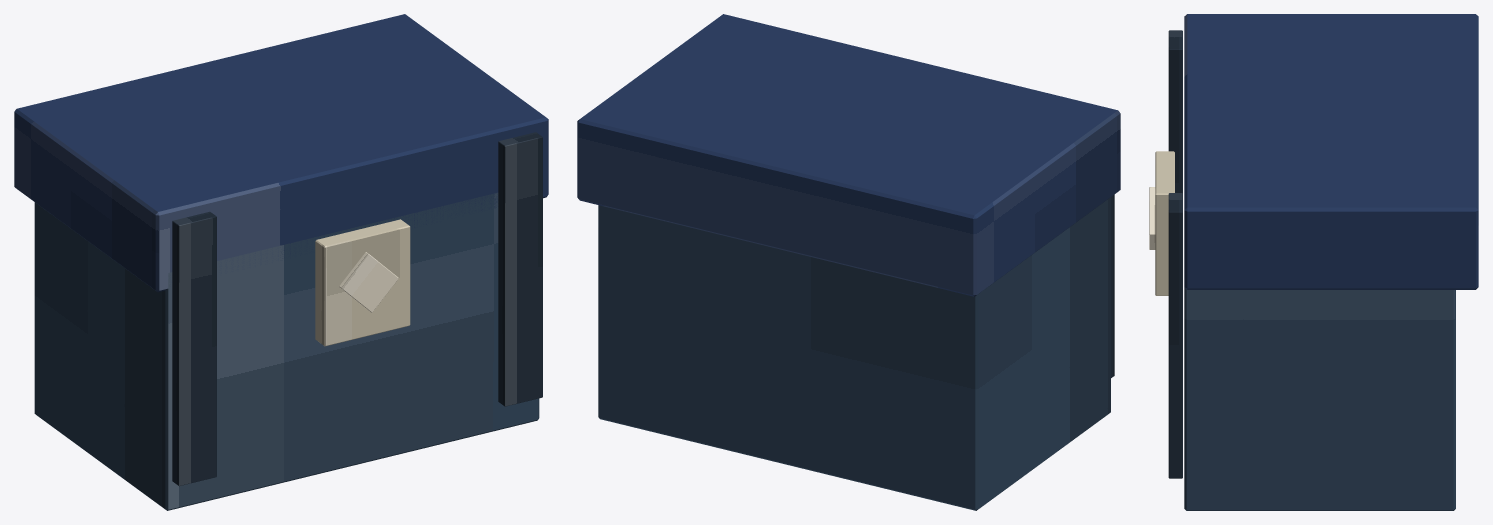
File: toy_chest_navy.glb
3 renders of one model, left to right at view 1: azimuth 30°, elevation 25°; view 2: azimuth 150°, elevation 25°; view 3: azimuth 270°, elevation 25°, orthographic. The views are drawn at different scales.
Visible parts, largest first — view 1: ChestBody, ChestLid, ChestBand_L, ChestBand_R, ChestLatch, ChestHeart; view 2: ChestBody, ChestLid, ChestBand_L; view 3: ChestLid, ChestBody, ChestBand_R, ChestLatch, ChestBand_L, ChestHeart.
Boxes of the visible parts, x1=… form: ChestBody: x1=34, y1=192, x2=539, y2=510; ChestLid: x1=14, y1=14, x2=548, y2=292; ChestBand_L: x1=172, y1=211, x2=216, y2=486; ChestBand_R: x1=498, y1=132, x2=542, y2=406; ChestLatch: x1=315, y1=219, x2=410, y2=346; ChestHeart: x1=339, y1=252, x2=398, y2=312; ChestBody: x1=598, y1=197, x2=1110, y2=510; ChestLid: x1=577, y1=14, x2=1120, y2=296; ChestBand_L: x1=1111, y1=194, x2=1114, y2=377; ChestLid: x1=1184, y1=14, x2=1478, y2=289; ChestBody: x1=1184, y1=287, x2=1455, y2=510; ChestBand_R: x1=1168, y1=193, x2=1182, y2=478; ChestLatch: x1=1155, y1=151, x2=1174, y2=295; ChestBand_L: x1=1168, y1=30, x2=1182, y2=193; ChestHeart: x1=1149, y1=187, x2=1155, y2=249.
Bounding box in the file's own units: 0.82 × 0.6 × 0.582.
1 material, 1 textured.
